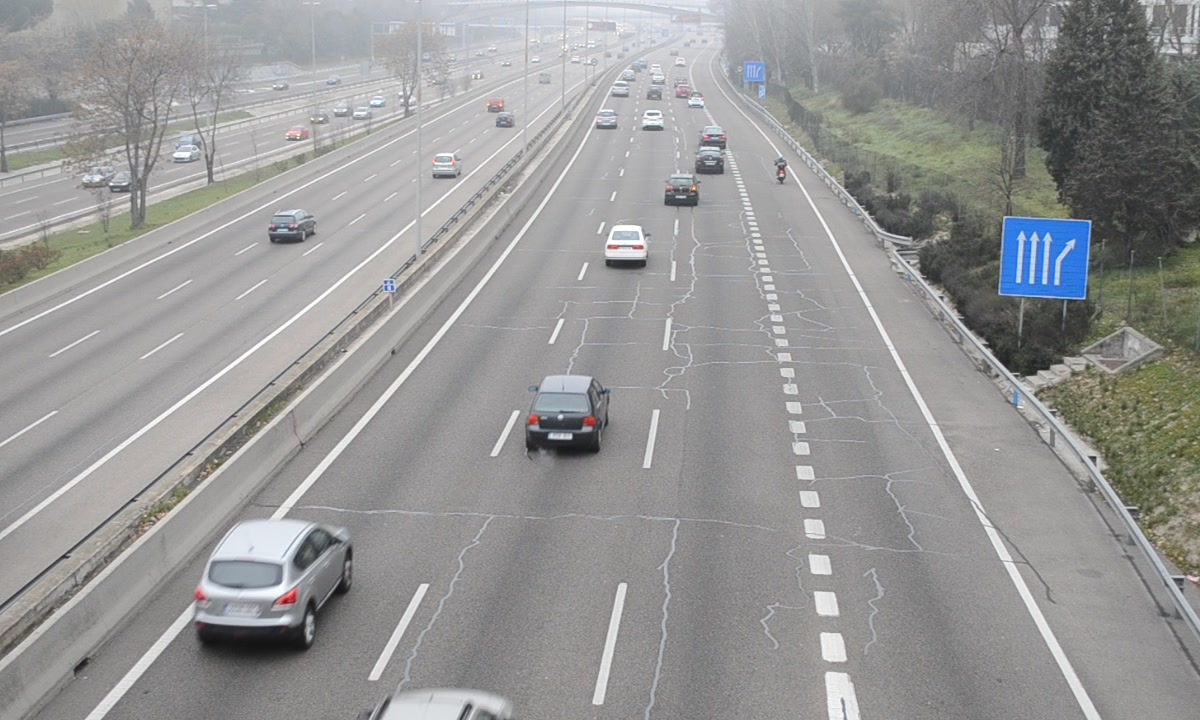car: (193, 520, 352, 630), (528, 375, 610, 446), (605, 224, 648, 264), (664, 174, 701, 208), (695, 147, 726, 175), (700, 125, 729, 148), (639, 108, 666, 132)
motorcycle: (773, 155, 789, 187)
